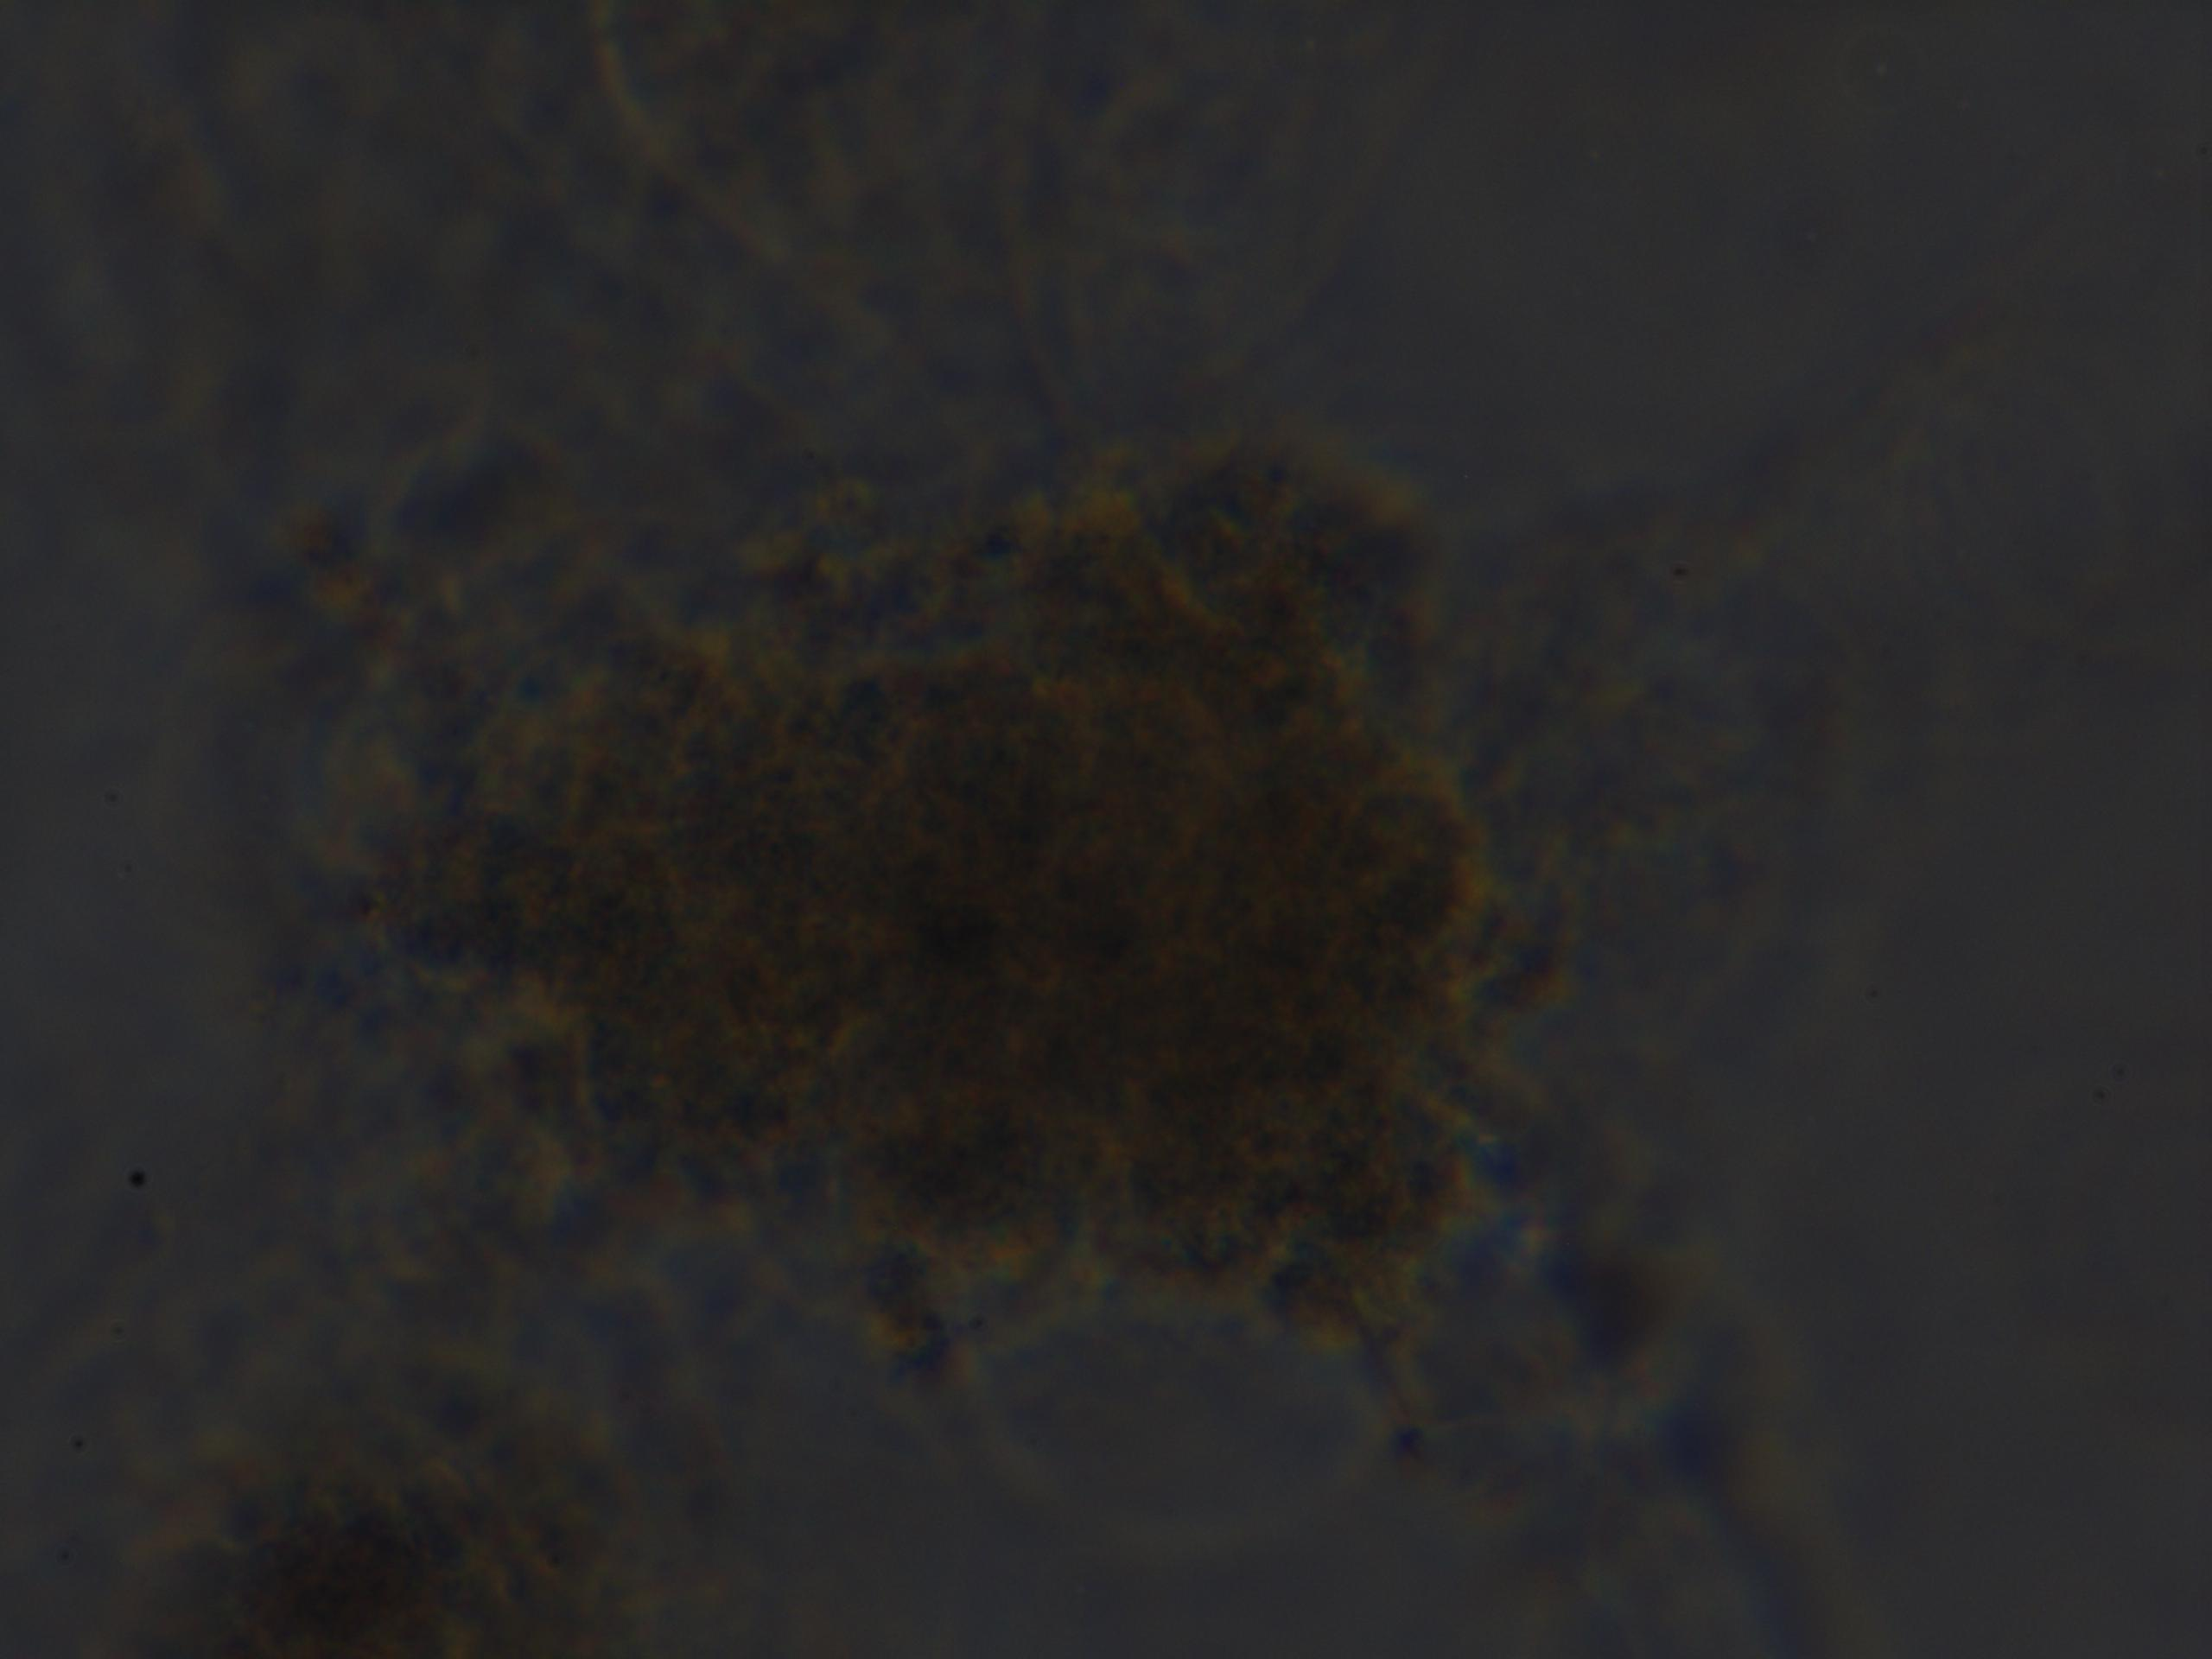spherical_floc: (322, 441, 1568, 1391)
